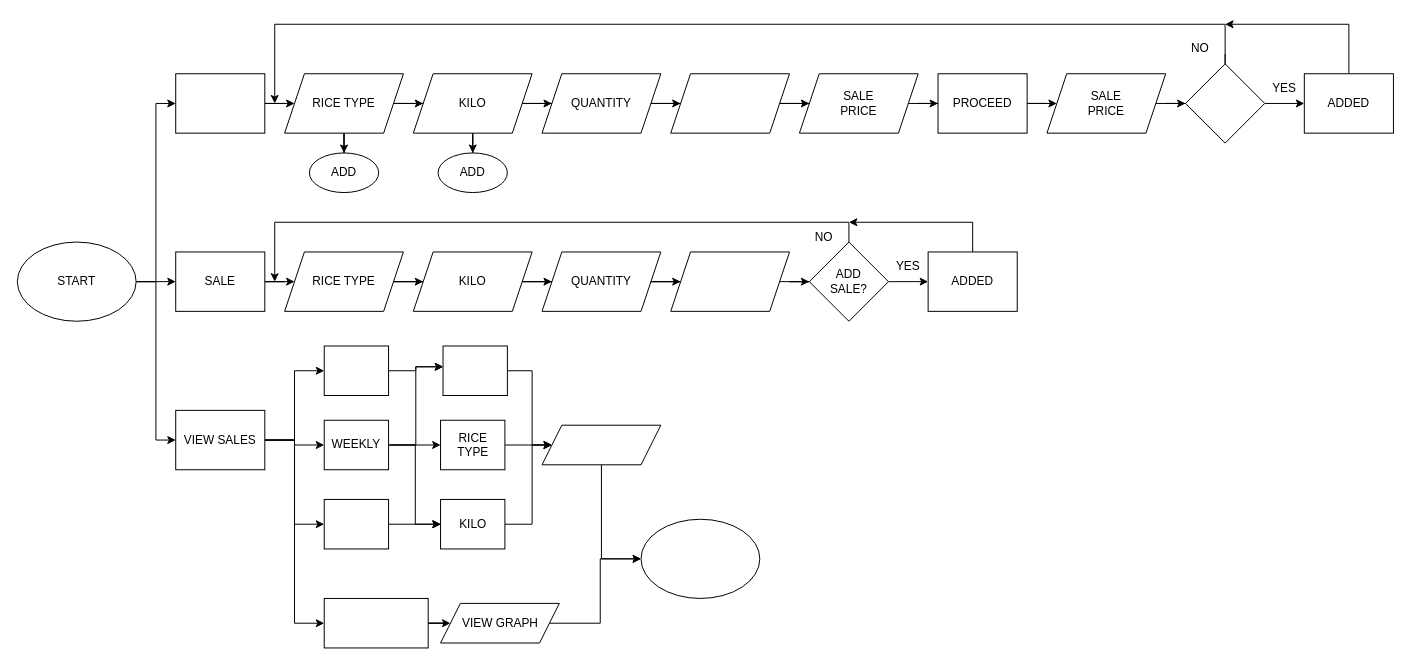
Some shapes in this 1411 by 665 pixel diagram are drawn without their labels. Each missing label, with the box of its shape:
ADD STACK: (175, 73, 265, 133)
ADD?: (1185, 63, 1265, 143)
DAILY: (323, 345, 389, 396)
END: (640, 518, 760, 598)
FINAL VIEW: (670, 251, 790, 311)
MONTHLY: (323, 498, 389, 549)
SALES COMPARISON GRAPH: (323, 597, 428, 648)
SALES PROFIT: (541, 424, 661, 465)
SUPPLIER PRICE: (670, 73, 790, 133)
TOTAL SALE: (442, 345, 507, 396)
